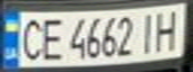2: (115, 12, 139, 57)
4: (63, 15, 87, 60)
6: (100, 13, 121, 60), (84, 13, 103, 60)
C: (15, 15, 48, 63)
E: (36, 15, 66, 62)
H: (151, 7, 187, 52)
I: (136, 10, 160, 54)
